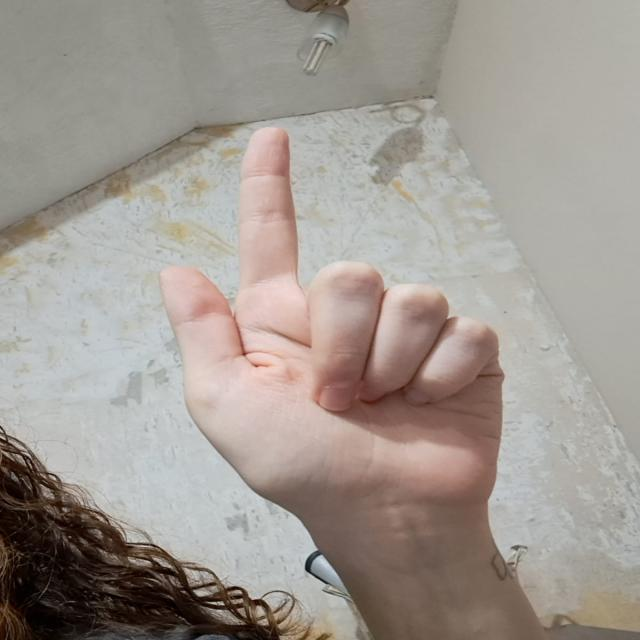G: (148, 121, 517, 500)
